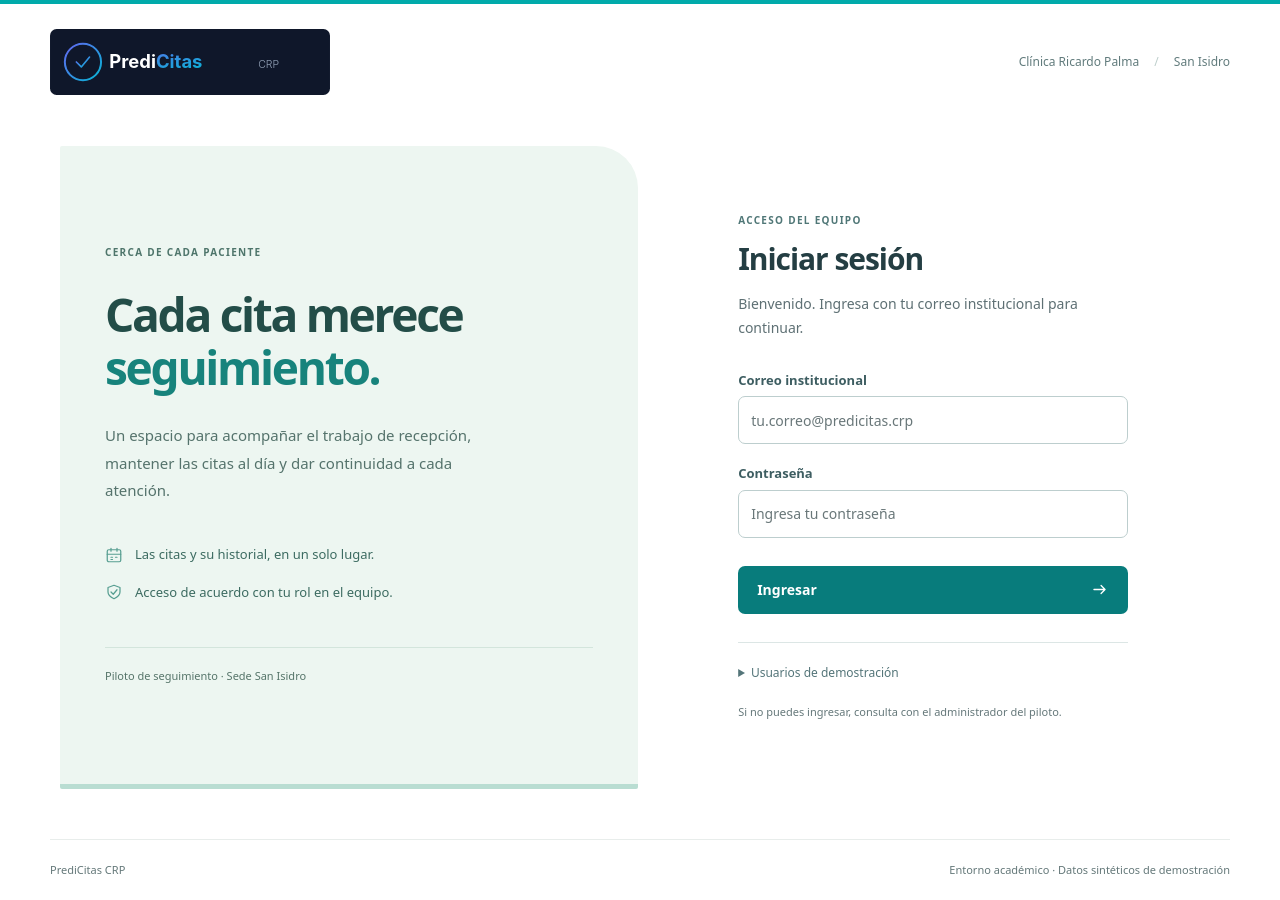
Test: Login › muestra el mensaje actual de credenciales incorrectas ante 401
Type "recepcion@predicitas.crp" into the field labelled "Correo institucional" at (933,420), box x1=738 y1=396 x2=1128 y2=444
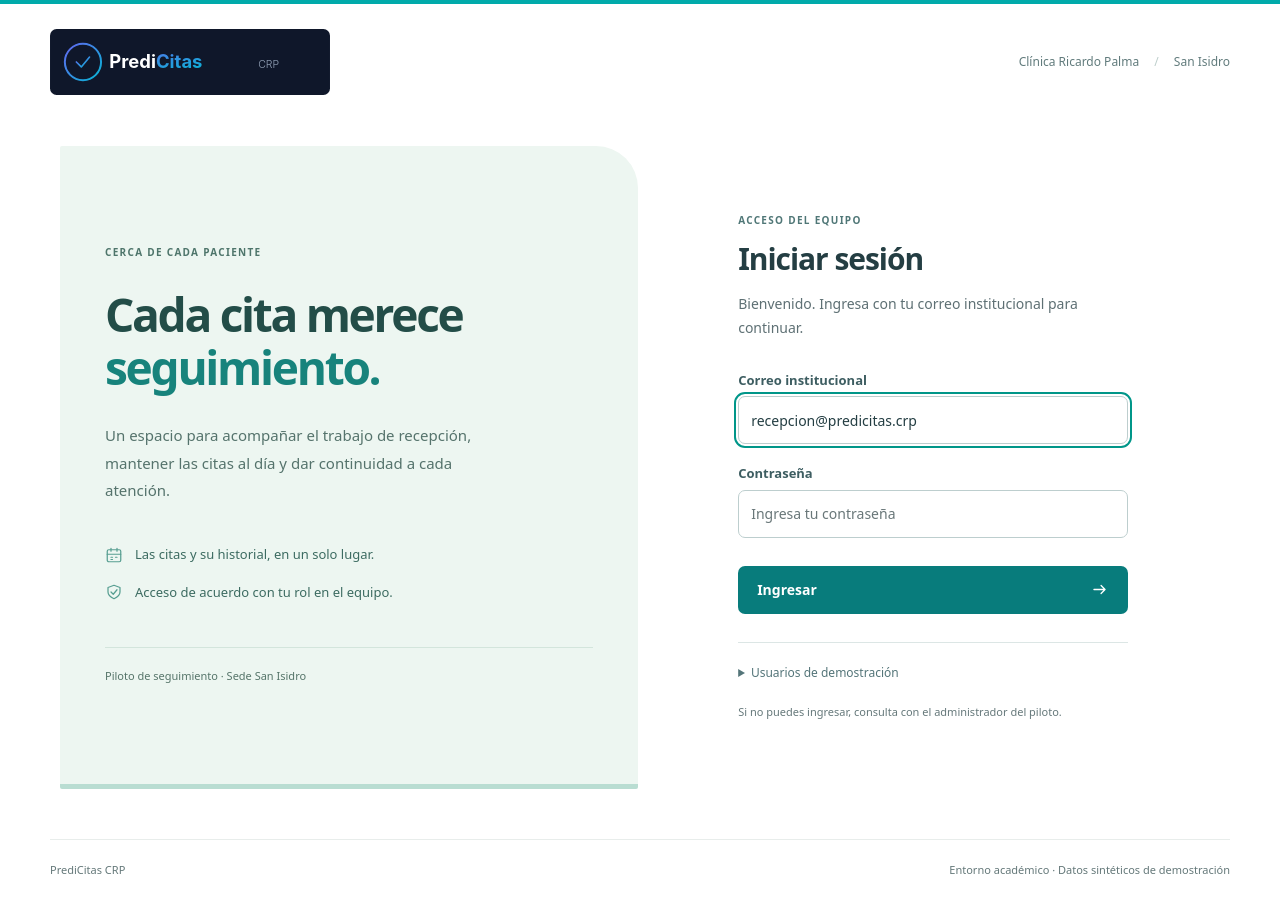
Type "Clave123" into the password field labelled "Contraseña" at (933,514), box x1=738 y1=490 x2=1128 y2=538
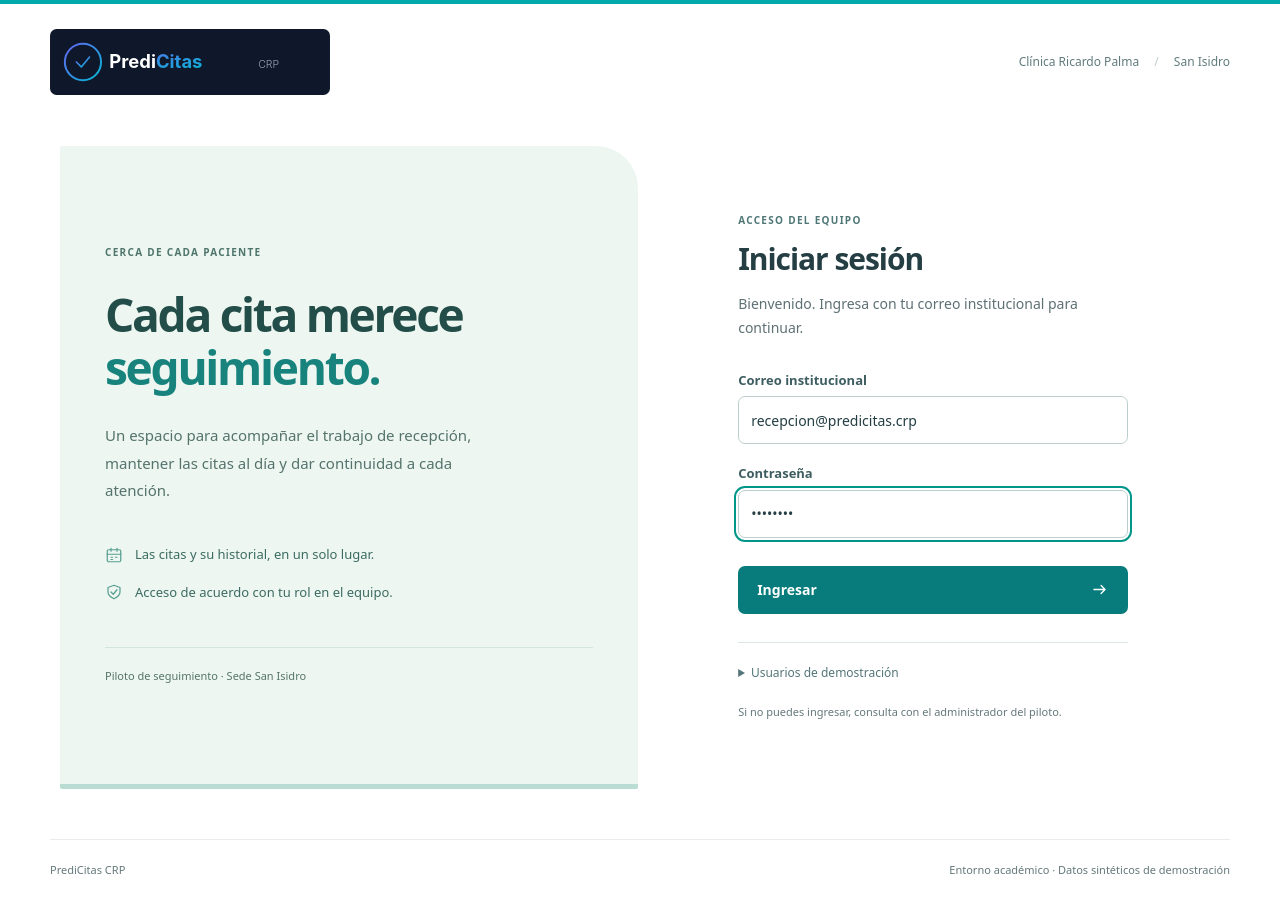
Click the button "Ingresar" at (787,590), box x1=738 y1=566 x2=1128 y2=614
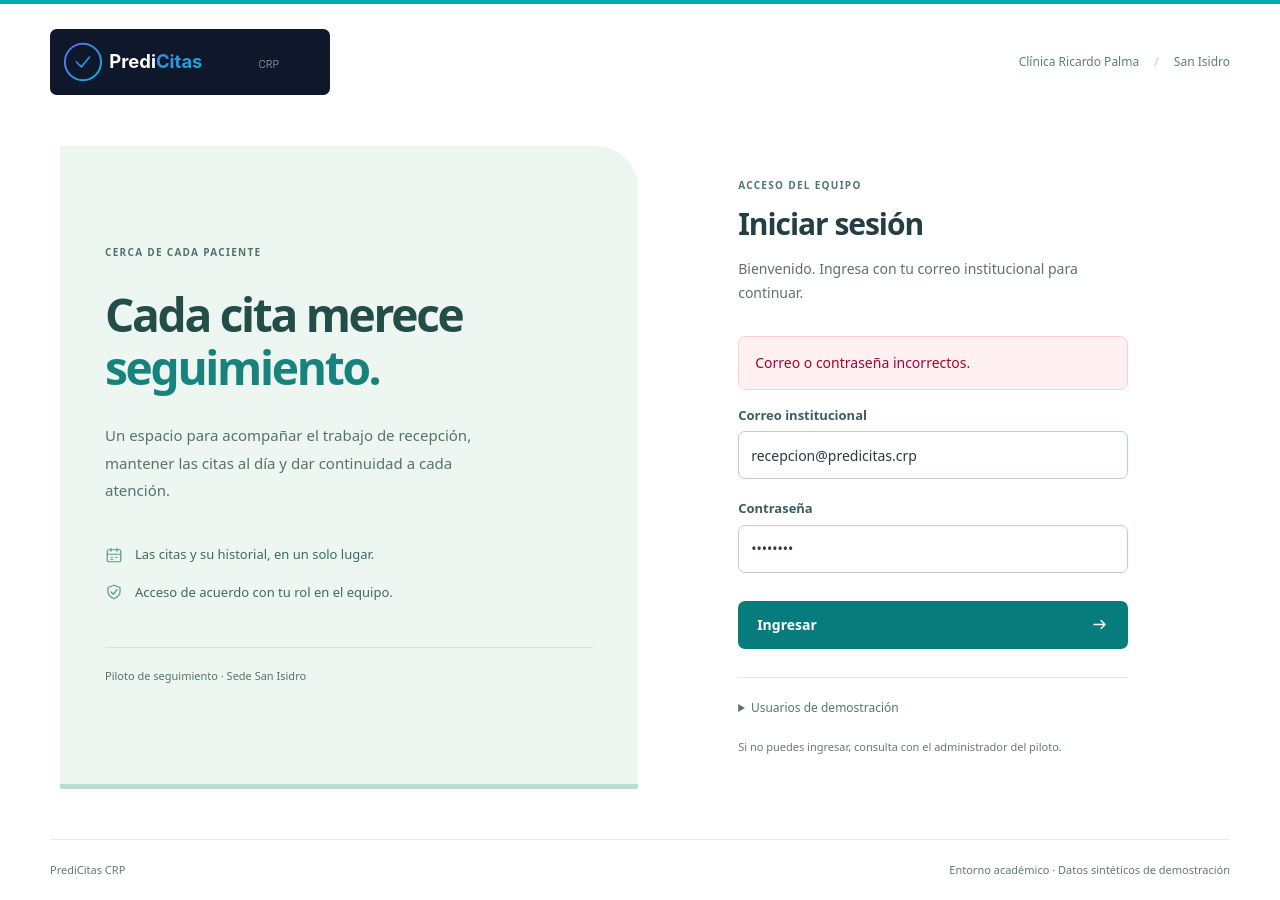
Expected: the button "Ingresar" is enabled, x1=738 y1=601 x2=1128 y2=649
Expected: the message reads "Correo o contraseña incorrectos.", x1=755 y1=353 x2=970 y2=372
